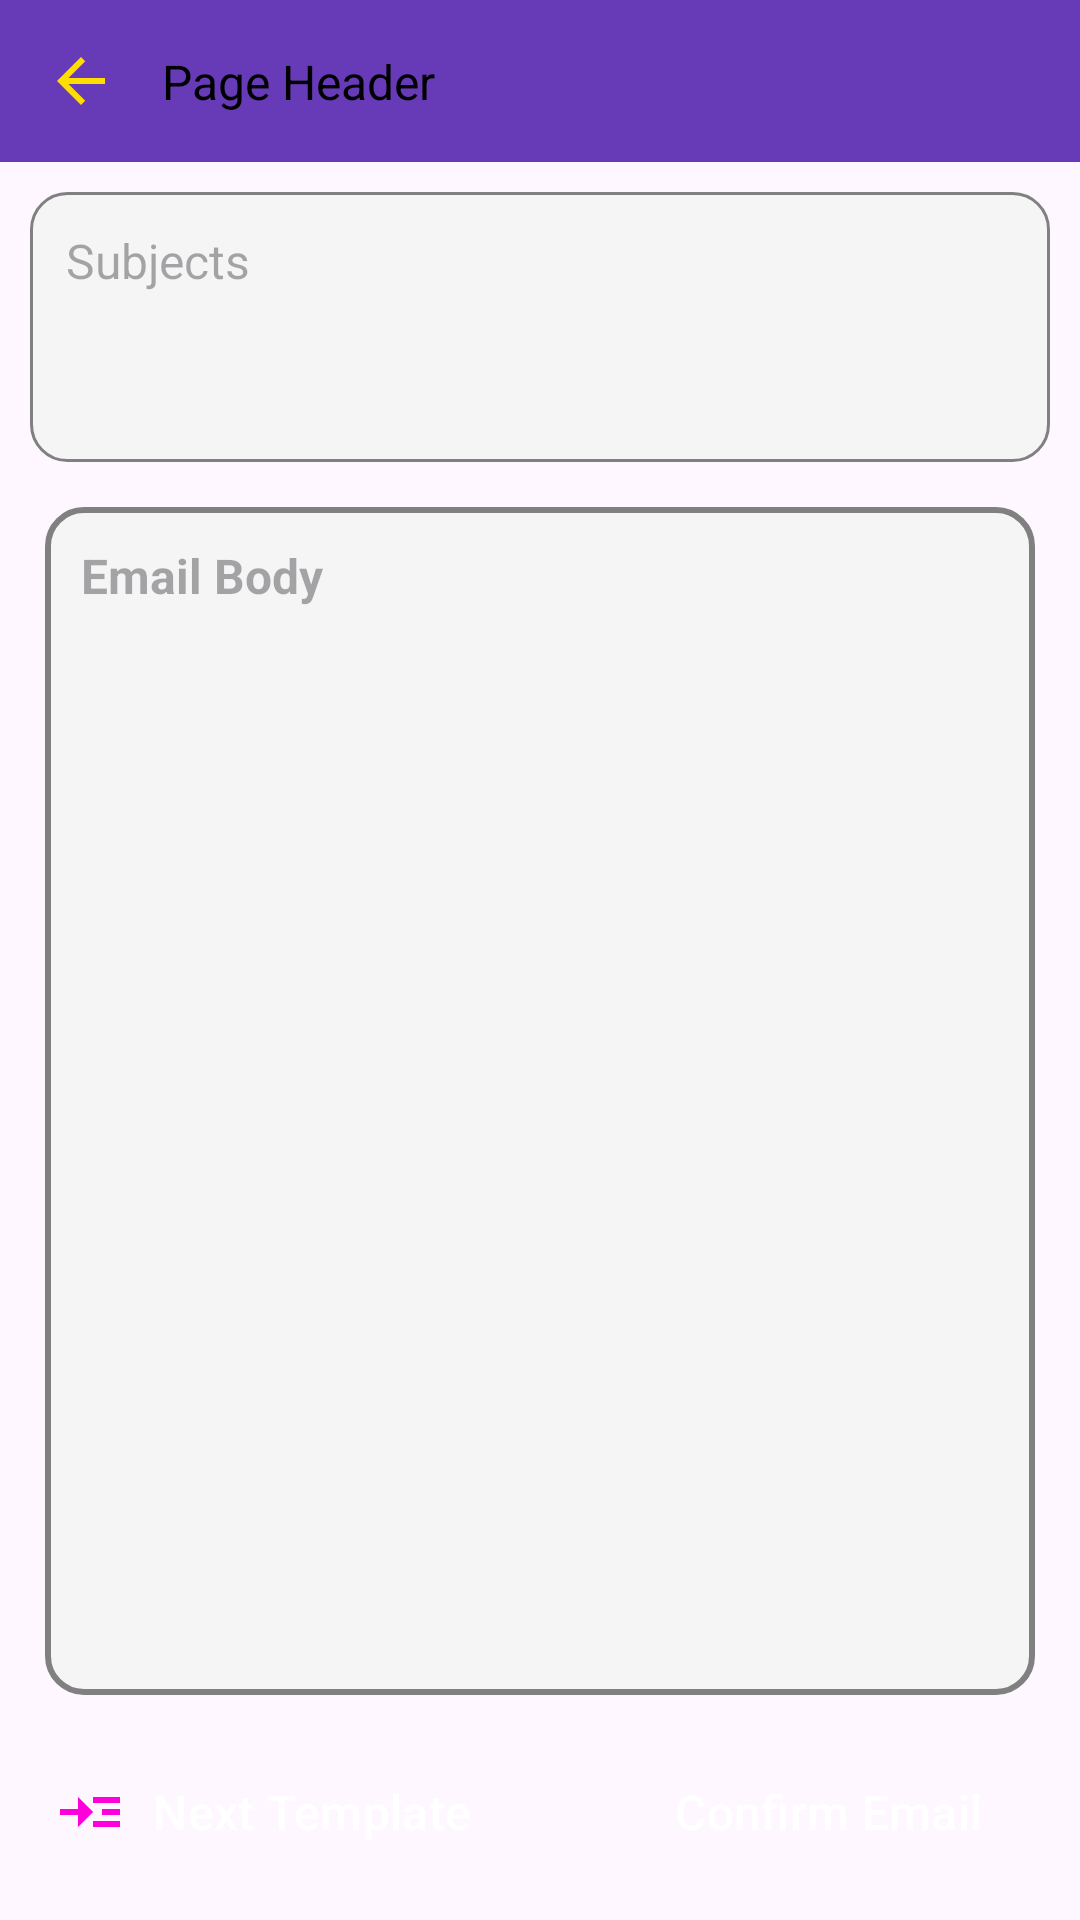

Icon click points for this 1080px x 1920px phone screenshot, format point (x, y):
back arrow: point (81, 81)
